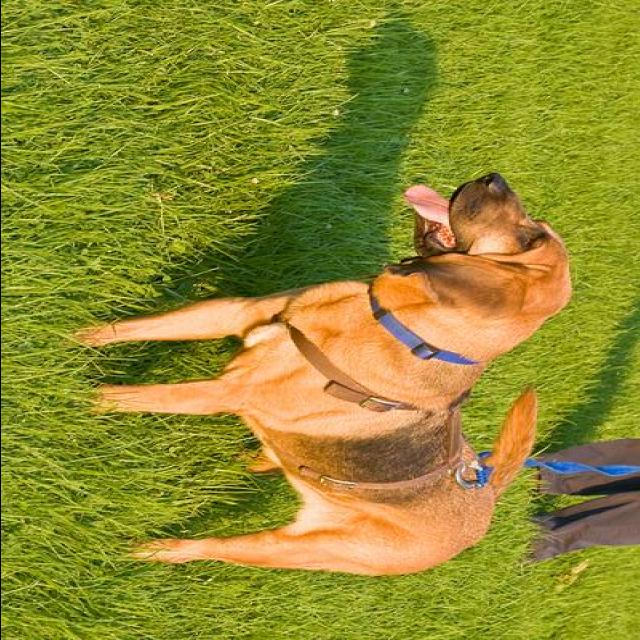bloodhound: (72, 172, 571, 578)
